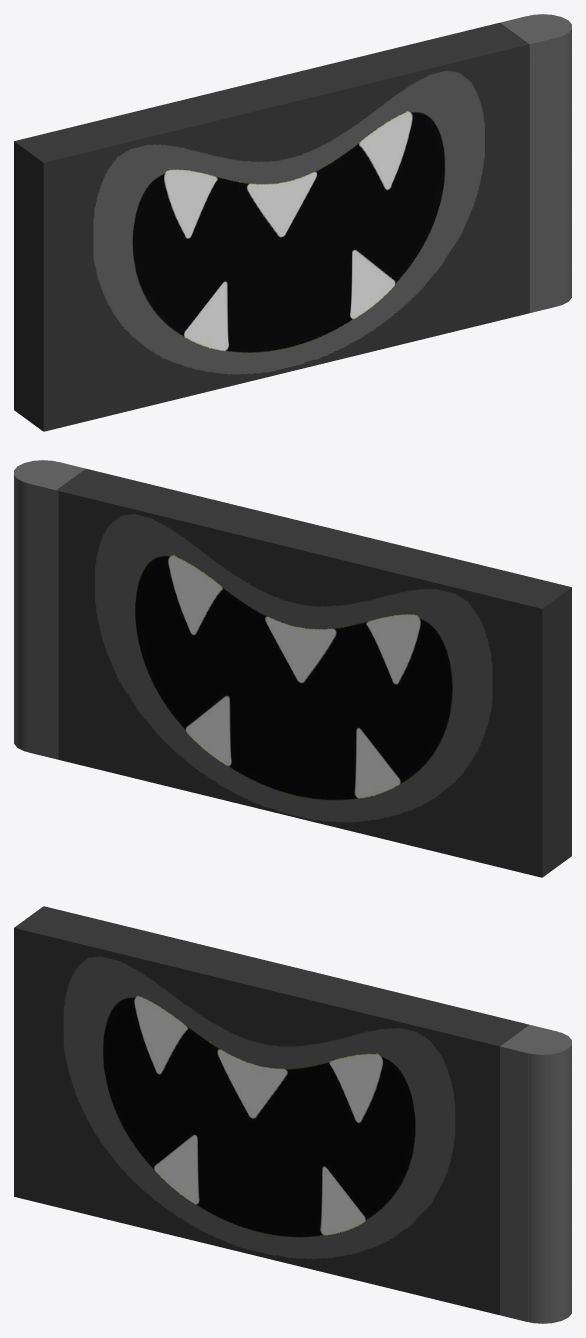
Rendered from rotation_board.FBX.
3 views of the same model, one above another, from view 1: azimuth 30°, elevation 25°; view 2: azimuth 150°, elevation 25°; view 3: azimuth 330°, elevation 25° (orthographic).
Visible parts, largest first — view 1: Box001; view 2: Box001; view 3: Box001.
Boxes of the visible parts, bbox=[...] form: Box001: bbox=[14, 14, 571, 431]; Box001: bbox=[14, 460, 571, 877]; Box001: bbox=[14, 906, 571, 1323].
Size of the model in its own units: 105 by 50 by 10.
